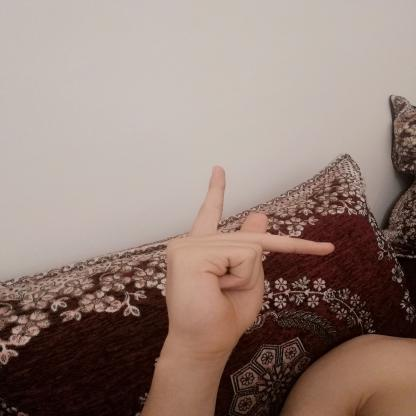DHAA: (146, 155, 349, 357)
